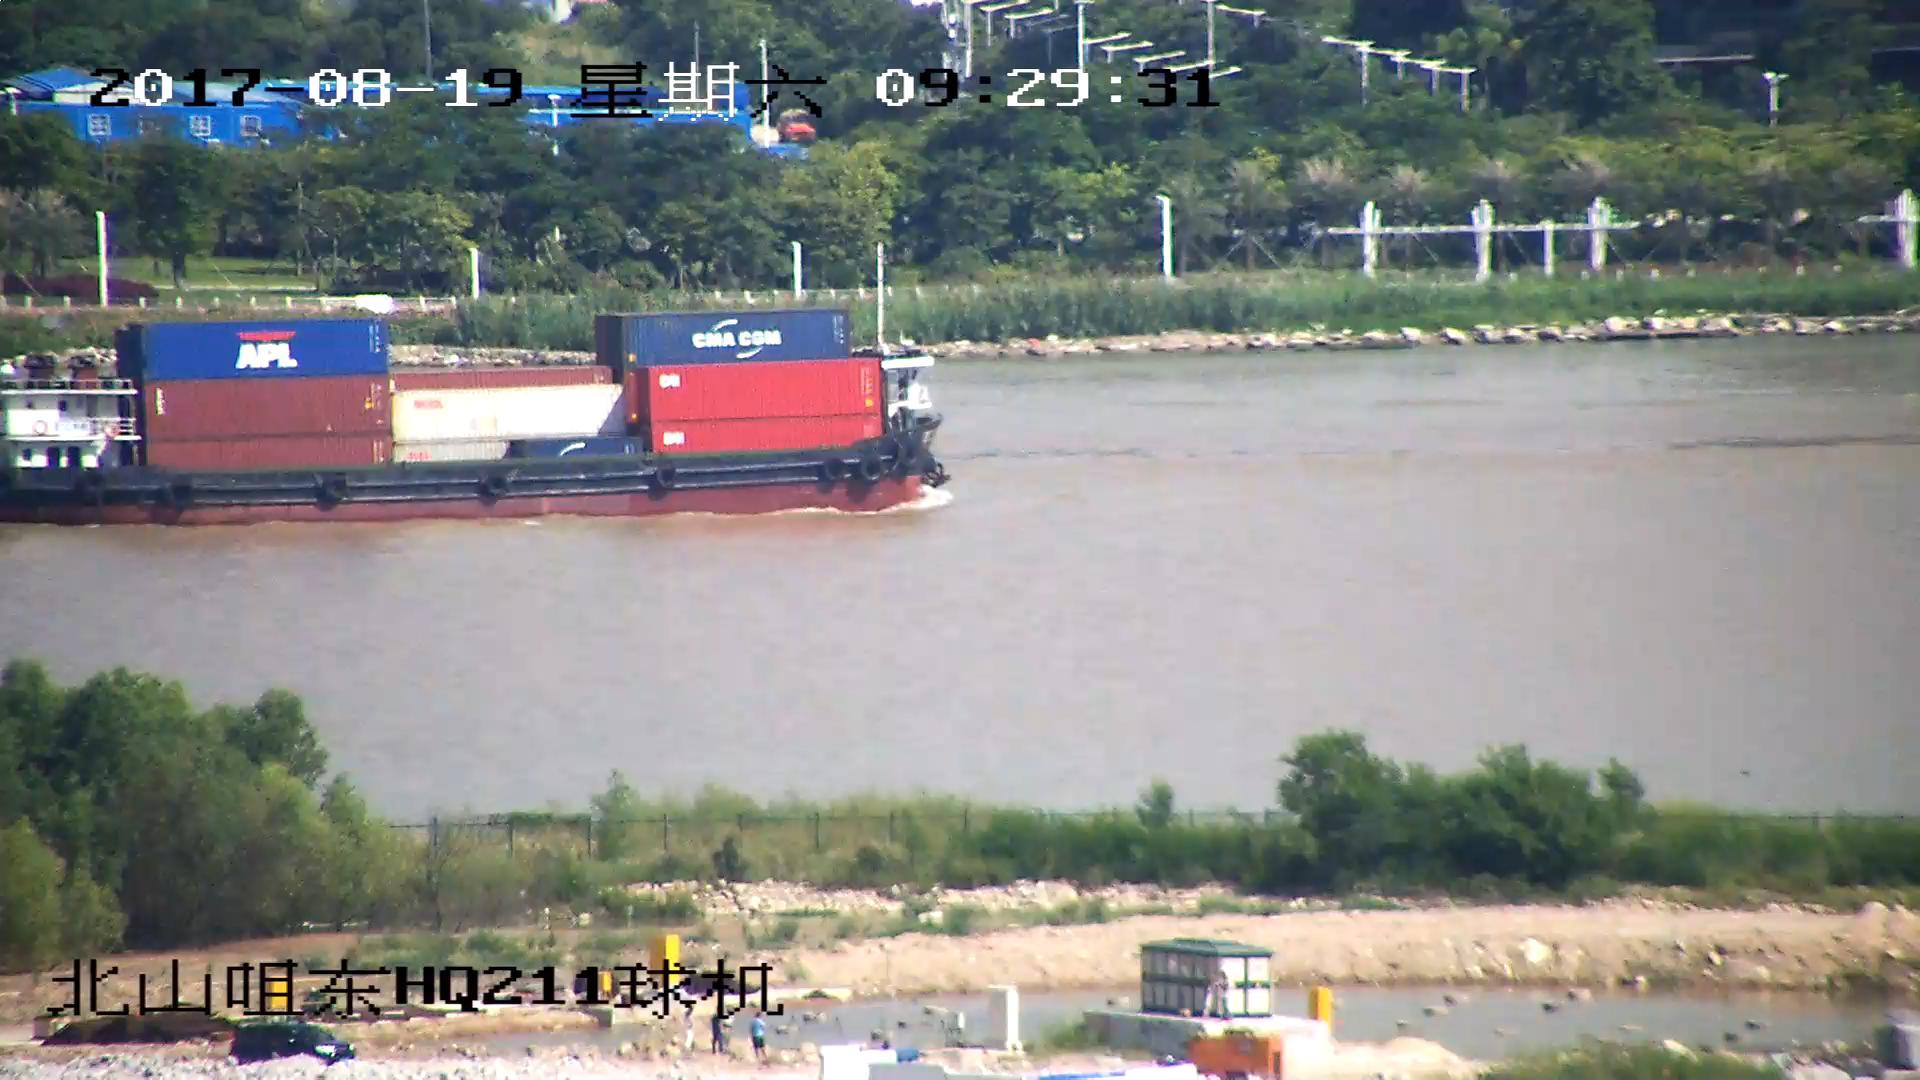Ship: (3, 239, 953, 527)
